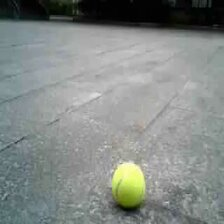tennis: (113, 163, 145, 203)
